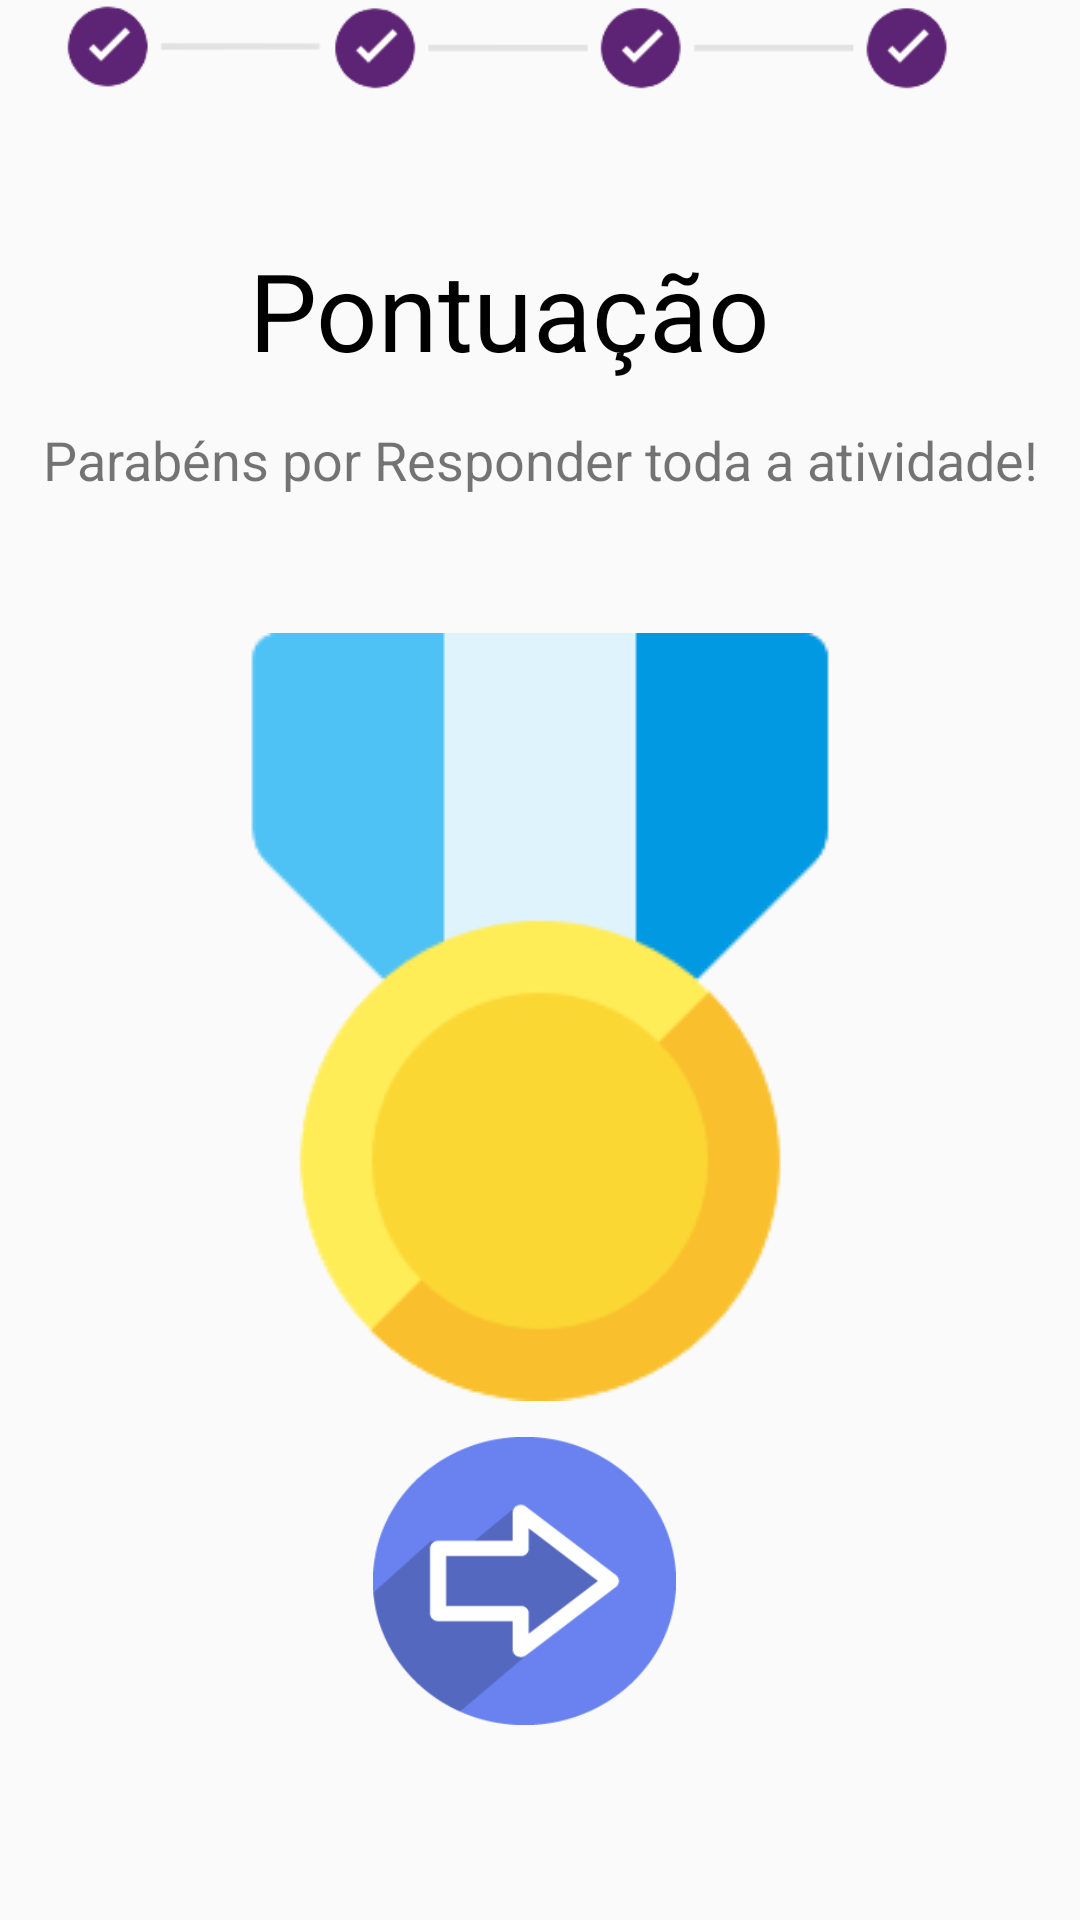

Named icons in this screenshot (1080px x 1920px) and their centers, point (x, y):
arrow: point (524, 1581)
